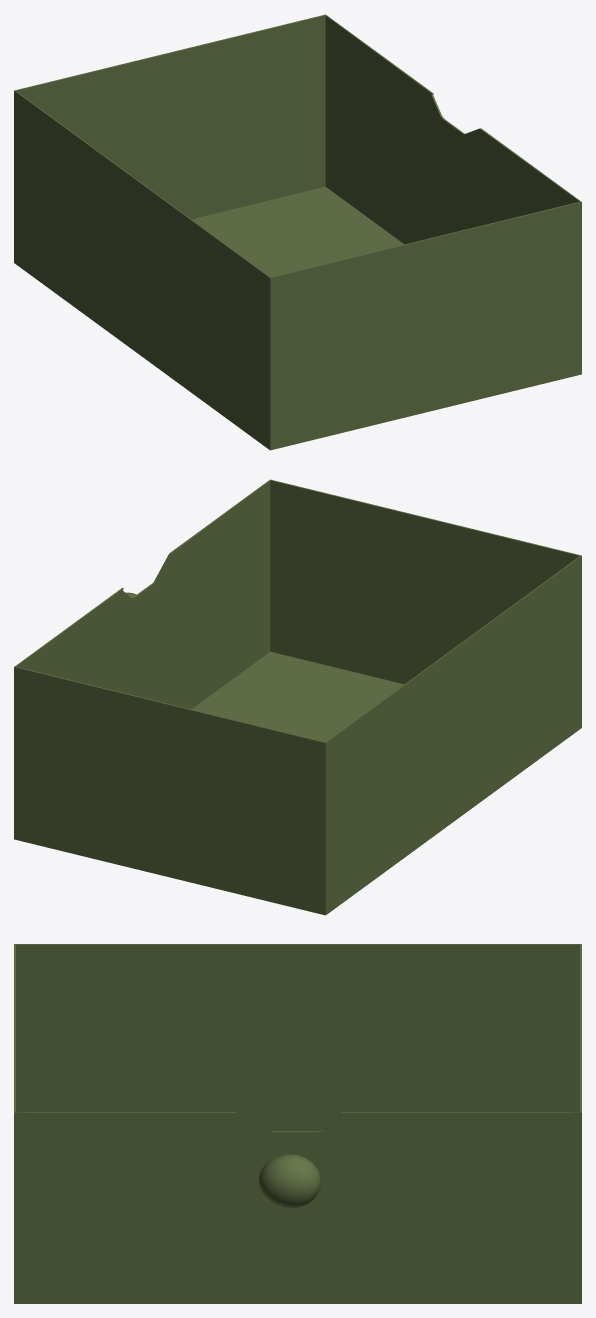
Rendered from cajon.OBJ.
The picture shows the model from 3 angles, top to bottom: view 1: azimuth 30°, elevation 25°; view 2: azimuth 150°, elevation 25°; view 3: azimuth 270°, elevation 25°; orthographic projection. The views are drawn at different scales.
Parts seen in each view (by area): view 1: cajon1:Cube_001_Cube_013_white_wood1; view 2: cajon1:Cube_001_Cube_013_white_wood1; view 3: cajon1:Cube_001_Cube_013_white_wood1.
Boxes of the visible parts, x1,y1,x2,y2 form: cajon1:Cube_001_Cube_013_white_wood1: (14, 14, 581, 450); cajon1:Cube_001_Cube_013_white_wood1: (14, 479, 581, 915); cajon1:Cube_001_Cube_013_white_wood1: (14, 944, 581, 1303).
Bounding box in the file's own units: 1.05 × 0.4921 × 1.33.
1 material, 1 textured.
